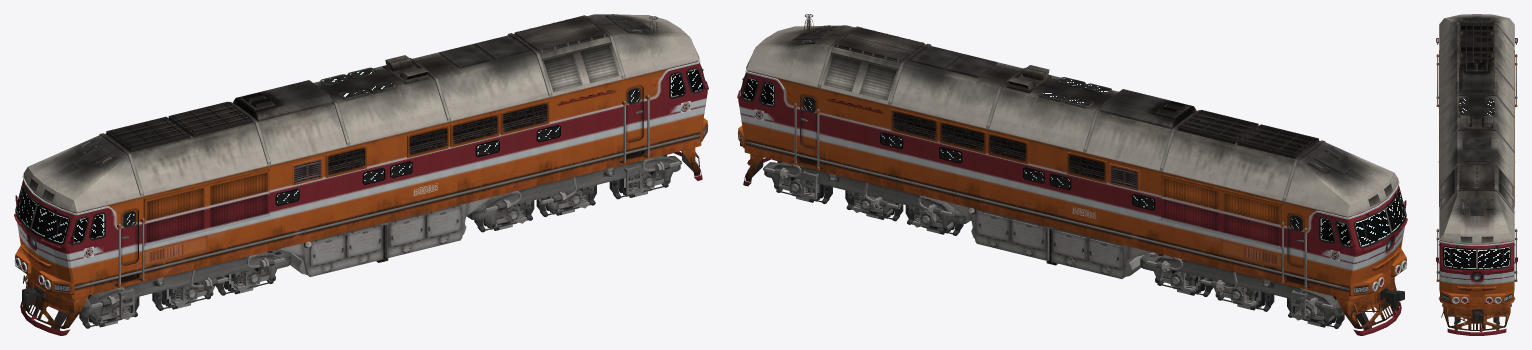
File: mvp_ir_tep70.obj
The picture shows the model from 3 angles, left to right: view 1: azimuth 30°, elevation 25°; view 2: azimuth 150°, elevation 25°; view 3: azimuth 270°, elevation 25°; orthographic projection. The views are drawn at different scales.
Visible parts, largest first — view 1: FRAME_tep70, BOGEY_REAR_tep70, BOGEY_FRONT_tep70; view 2: FRAME_tep70, BOGEY_REAR_tep70, BOGEY_FRONT_tep70; view 3: FRAME_tep70, BOGEY_REAR_tep70.
Part boxes in pixels (x1,y1,x2,y2): FRAME_tep70: (14,14,708,335); BOGEY_REAR_tep70: (467,154,681,232); BOGEY_FRONT_tep70: (79,250,291,328); FRAME_tep70: (737,14,1407,335); BOGEY_REAR_tep70: (763,161,970,235); BOGEY_FRONT_tep70: (1140,253,1344,328); FRAME_tep70: (1436,14,1517,335); BOGEY_REAR_tep70: (1438,244,1515,323).
Size of the model in its own units: 22.96 by 5.75 by 3.37.
4 materials, 3 textured.
